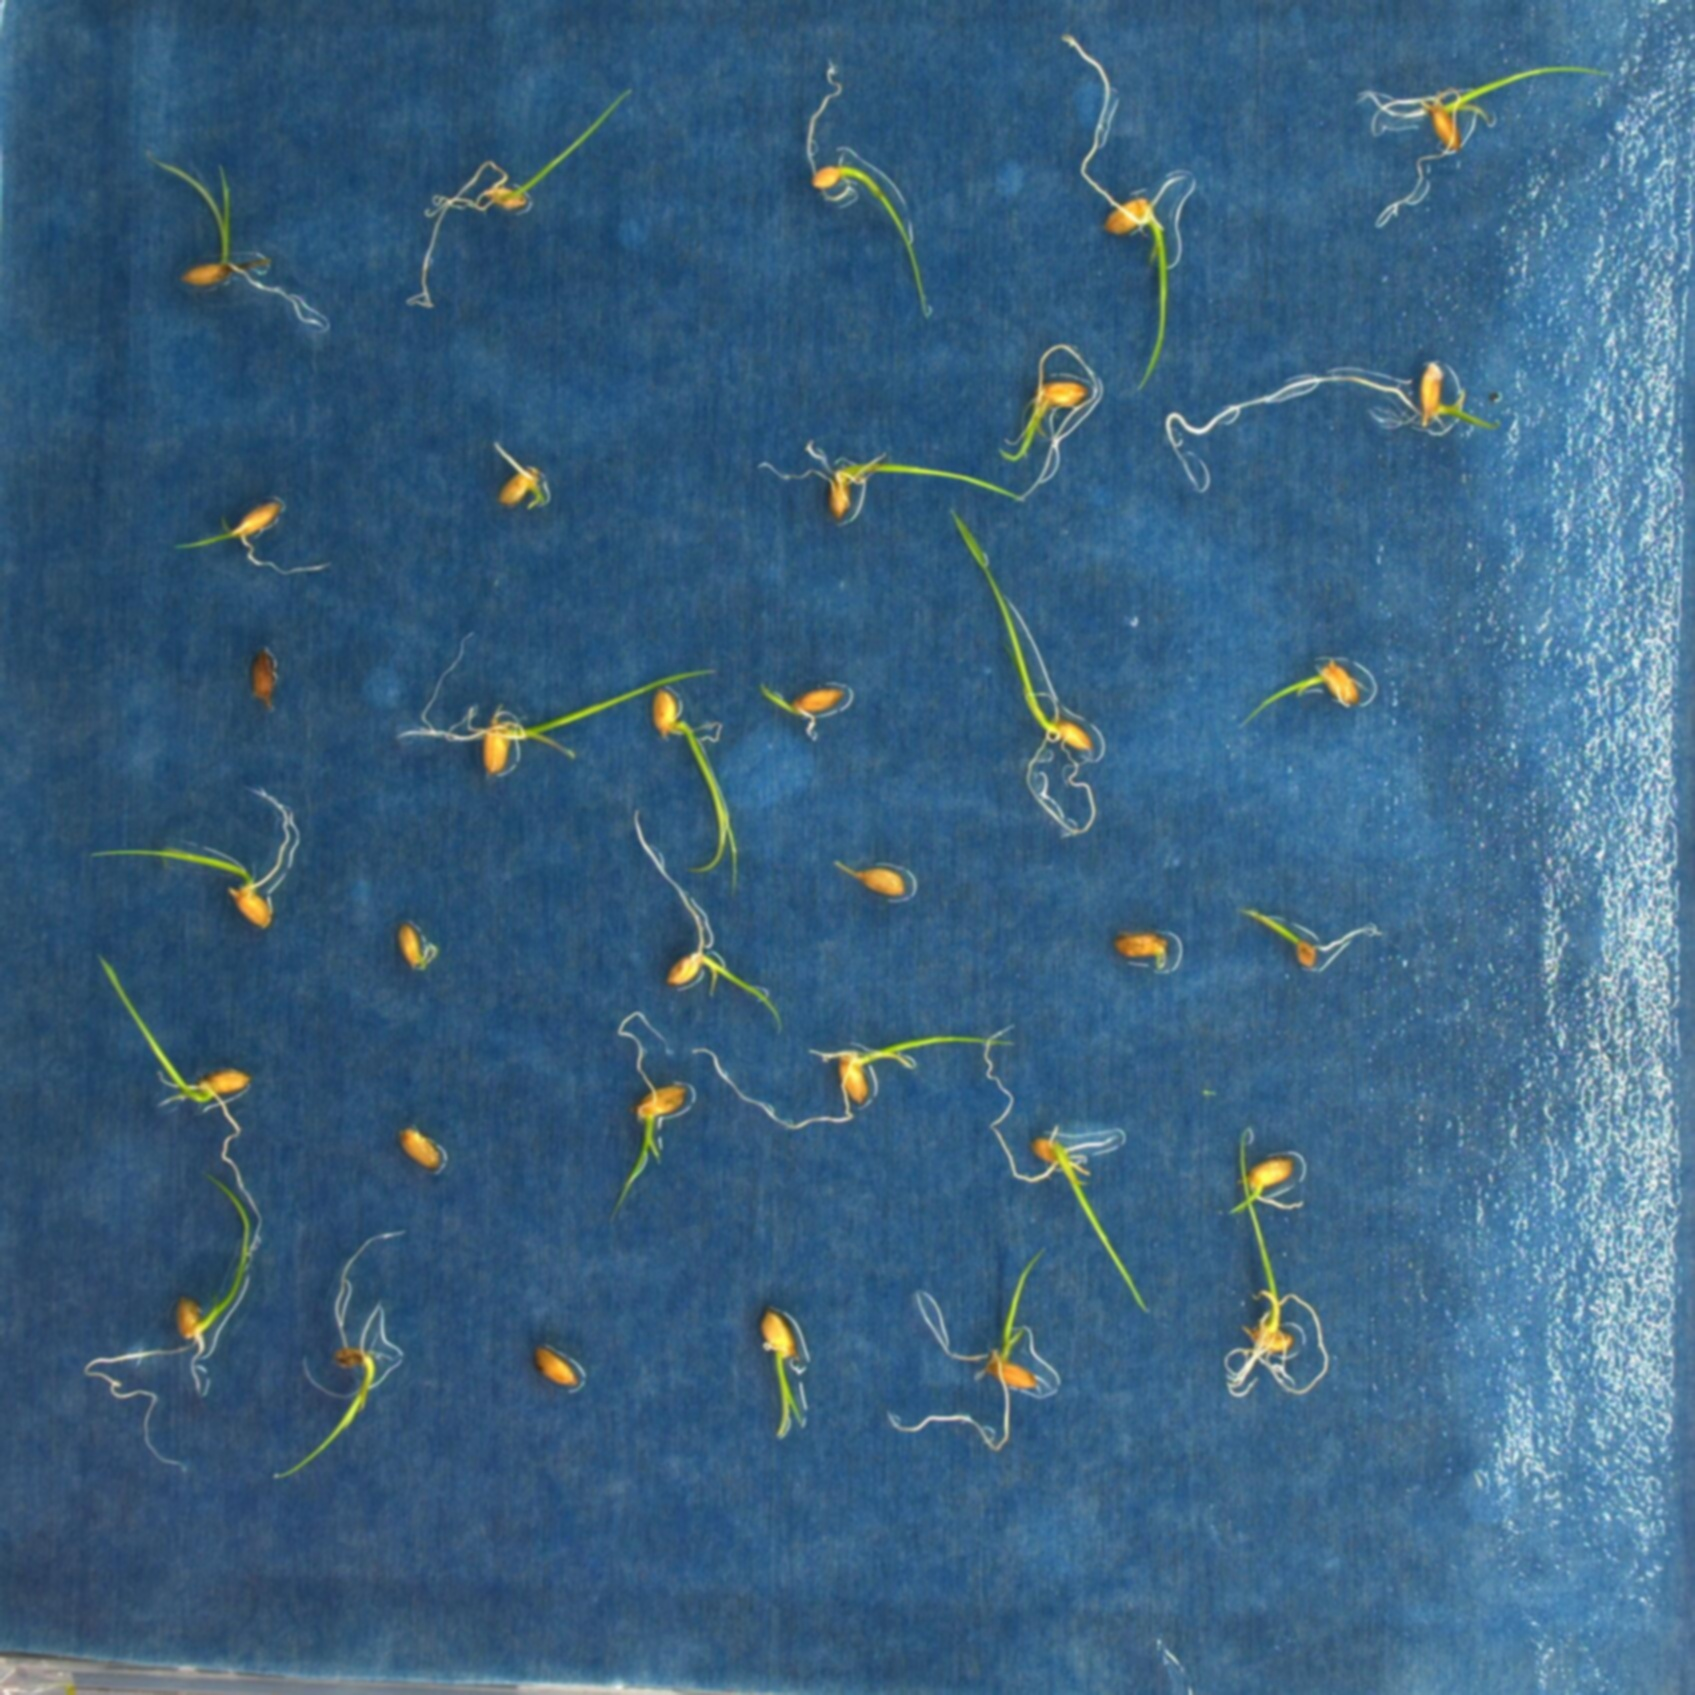not sprout: (834, 857, 910, 900), (1111, 927, 1175, 972), (399, 1122, 442, 1175), (531, 1347, 581, 1392), (251, 649, 284, 716), (399, 920, 433, 976)
sprout: (983, 1021, 1159, 1319), (92, 953, 264, 1251), (396, 624, 723, 781), (81, 1172, 251, 1470), (405, 87, 635, 307), (948, 504, 1099, 832), (1164, 357, 1495, 492), (1358, 64, 1613, 228), (1062, 34, 1167, 391), (629, 807, 789, 1035), (140, 149, 335, 334), (802, 62, 931, 320), (689, 1034, 1024, 1132), (273, 1228, 400, 1482), (885, 1243, 1038, 1450), (1222, 1125, 1329, 1397), (90, 790, 290, 930), (759, 438, 1037, 515), (652, 688, 747, 896), (607, 1010, 691, 1229), (1000, 341, 1101, 504), (172, 500, 337, 574), (1232, 903, 1391, 969), (1234, 660, 1364, 733), (762, 1312, 807, 1437), (759, 680, 844, 740), (1225, 1156, 1299, 1215), (494, 439, 548, 511)
